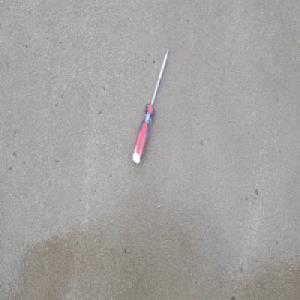Screwdriver: (131, 46, 170, 166)
